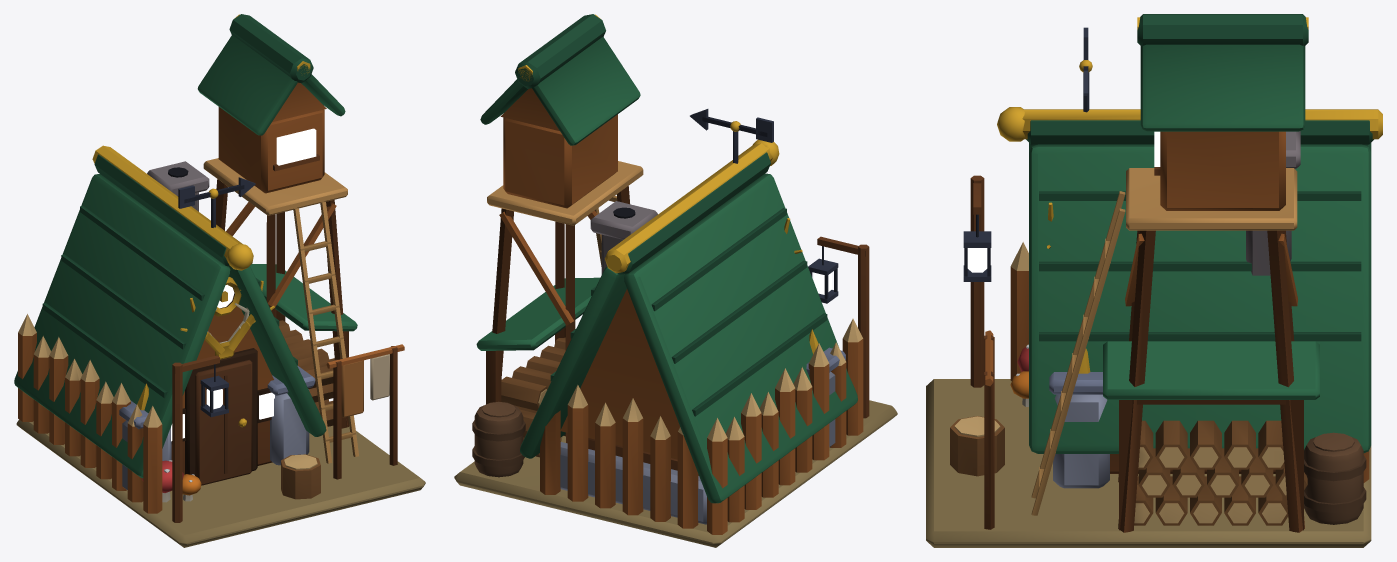
Rendered from o_special_forst.glb.
3 renders of one model, left to right at view 1: azimuth 30°, elevation 25°; view 2: azimuth 150°, elevation 25°; view 3: azimuth 270°, elevation 25°, orthographic. The views are drawn at different scales.
Visible parts, largest first — view 1: body, lv3_upper, lv4_armor, lv2_annex, lv5_gold, lv3_win_glow, spin_vane, sway_lantern, win_glow; view 2: body, lv4_armor, lv3_upper, lv2_annex, lv5_gold, spin_vane, sway_lantern; view 3: body, lv3_upper, lv2_annex, lv4_armor, lv5_gold, sway_lantern.
Boxes of the visible parts, left/top/right/bottom form: body: left=14, top=154, right=425, bottom=547; lv3_upper: left=197, top=14, right=358, bottom=463; lv4_armor: left=18, top=314, right=315, bottom=513; lv2_annex: left=250, top=264, right=357, bottom=428; lv5_gold: left=92, top=14, right=310, bottom=410; lv3_win_glow: left=276, top=128, right=316, bottom=165; spin_vane: left=178, top=177, right=255, bottom=208; sway_lantern: left=200, top=364, right=228, bottom=417; win_glow: left=171, top=284, right=274, bottom=441; body: left=454, top=131, right=897, bottom=547; lv4_armor: left=540, top=318, right=863, bottom=534; lv3_upper: left=480, top=14, right=643, bottom=443; lv2_annex: left=472, top=277, right=599, bottom=477; lv5_gold: left=518, top=14, right=818, bottom=354; spin_vane: left=690, top=109, right=773, bottom=142; sway_lantern: left=808, top=246, right=838, bottom=303; body: left=926, top=72, right=1373, bottom=547; lv3_upper: left=1031, top=14, right=1308, bottom=532; lv2_annex: left=1103, top=341, right=1366, bottom=530; lv4_armor: left=1010, top=242, right=1369, bottom=488; lv5_gold: left=997, top=17, right=1382, bottom=373; sway_lantern: left=963, top=214, right=991, bottom=281.
Bounding box in the file's own units: 3.32 × 4.91 × 4.
